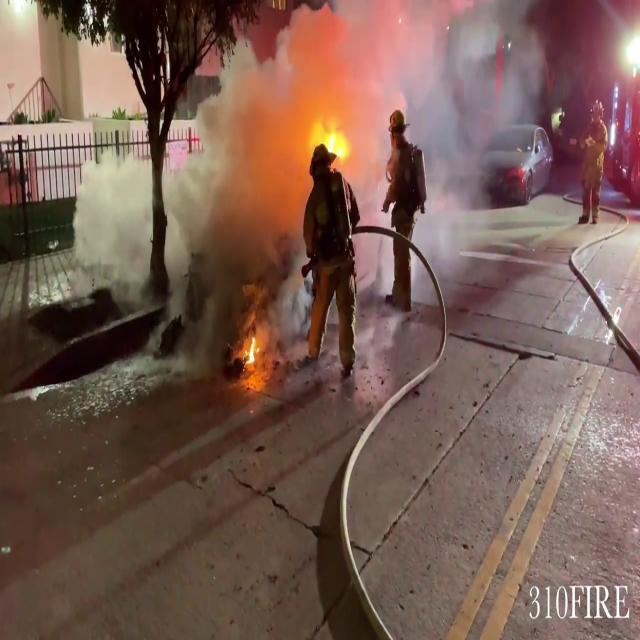Fire: (309, 103, 351, 173), (231, 317, 267, 380)
Smoke: (178, 0, 597, 253)
